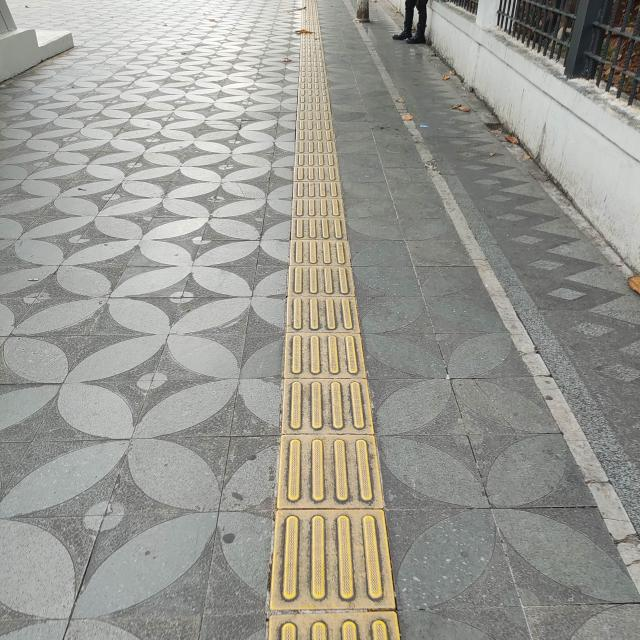lurus: (274, 9, 380, 640)
